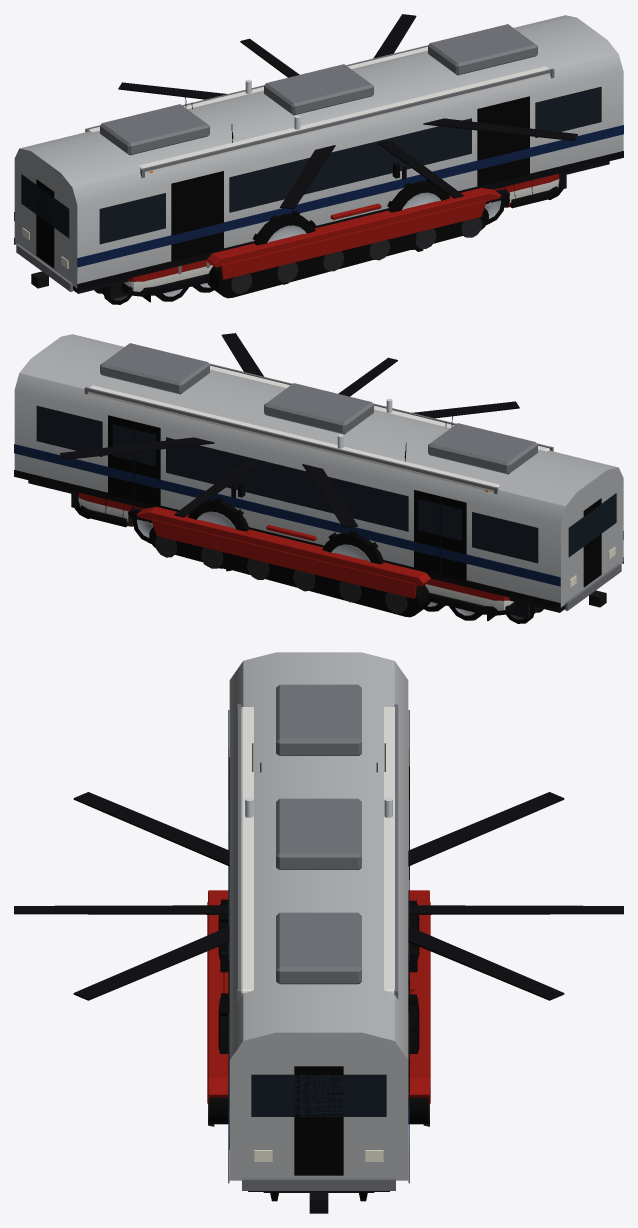
Rendered from vehicles.glb.
3 renders of one model, top to bottom at view 1: azimuth 30°, elevation 25°; view 2: azimuth 150°, elevation 25°; view 3: azimuth 270°, elevation 25°, orthographic. The views are drawn at different scales.
Parts seen in each view (by area): view 1: metro.body, tank.body, semi_trailer.body, gunship.rotor, bus.body, monster.body, heli_police.rotor; view 2: metro.body, tank.body, semi_trailer.body, gunship.rotor, bus.body, monster.body, heli_police.rotor; view 3: metro.body, gunship.rotor, semi_trailer.body, tank.body, heli_police.rotor, monster.body.
Part boxes in pixels (left/top/right/bottom): metro.body: left=14, top=15, right=623, bottom=304; tank.body: left=205, top=187, right=501, bottom=298; semi_trailer.body: left=85, top=45, right=554, bottom=302; gunship.rotor: left=118, top=14, right=577, bottom=209; bus.body: left=121, top=173, right=561, bottom=296; monster.body: left=252, top=179, right=449, bottom=284; heli_police.rotor: left=240, top=38, right=463, bottom=198; metro.body: left=14, top=334, right=623, bottom=623; tank.body: left=136, top=506, right=432, bottom=617; semi_trailer.body: left=84, top=363, right=553, bottom=621; gunship.rotor: left=60, top=333, right=519, bottom=528; bus.body: left=76, top=492, right=516, bottom=615; monster.body: left=188, top=497, right=383, bottom=571; heli_police.rotor: left=174, top=357, right=397, bottom=517; metro.body: left=228, top=652, right=409, bottom=1213; gunship.rotor: left=73, top=792, right=564, bottom=1000; semi_trailer.body: left=237, top=704, right=398, bottom=1002; tank.body: left=207, top=890, right=430, bottom=1126; heli_police.rotor: left=14, top=905, right=623, bottom=914; monster.body: left=218, top=899, right=419, bottom=1053.
Size of the model in its own units: 15.2 by 4.16 by 9.9.
